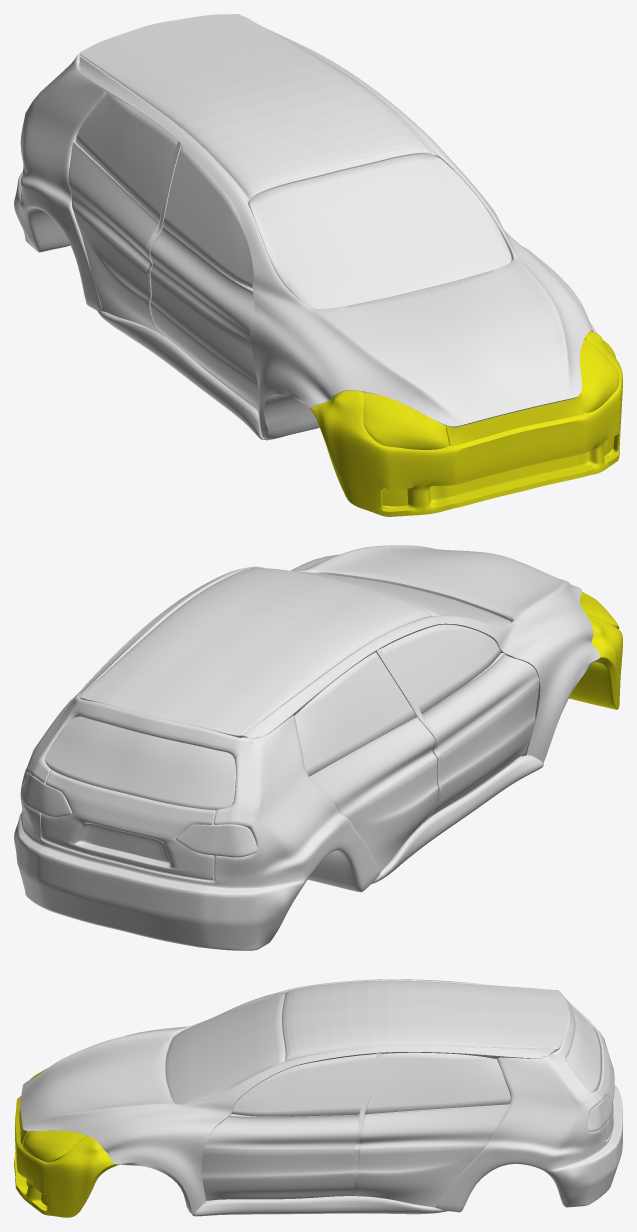
The model's file is carModel.fbx.
3 renders of one model, top to bottom at view 1: azimuth 30°, elevation 25°; view 2: azimuth 150°, elevation 25°; view 3: azimuth 270°, elevation 25°, orthographic. The views are drawn at different scales.
Parts seen in each view (by area): view 1: Plane, Plane.004, Plane.003, Plane.002, Plane.006, Plane.001, Plane.013, Plane.008, Plane.009; view 2: Plane, Plane.001, Plane.002, Plane.006, Plane.005, Plane.012, Plane.008, Plane.003, Plane.004, Plane.009, Plane.013; view 3: Plane, Plane.002, Plane.001, Plane.006, Plane.004, Plane.003, Plane.008, Plane.005, Plane.013, Plane.009, Plane.012.
Boxes of the visible parts, bbox=[...] form: Plane: bbox=[79, 14, 597, 438]; Plane.004: bbox=[248, 154, 511, 308]; Plane.003: bbox=[310, 331, 622, 516]; Plane.002: bbox=[68, 141, 258, 409]; Plane.006: bbox=[75, 94, 253, 288]; Plane.001: bbox=[14, 14, 251, 311]; Plane.013: bbox=[362, 338, 619, 449]; Plane.008: bbox=[97, 310, 286, 440]; Plane.009: bbox=[146, 141, 181, 336]; Plane: bbox=[79, 545, 600, 762]; Plane.001: bbox=[14, 691, 379, 950]; Plane.002: bbox=[309, 653, 542, 873]; Plane.006: bbox=[294, 624, 501, 776]; Plane.005: bbox=[44, 716, 235, 810]; Plane.012: bbox=[21, 773, 257, 857]; Plane.008: bbox=[372, 755, 543, 883]; Plane.003: bbox=[569, 614, 622, 709]; Plane.004: bbox=[252, 567, 511, 625]; Plane.009: bbox=[376, 648, 442, 822]; Plane.013: bbox=[580, 591, 619, 628]; Plane: bbox=[20, 979, 568, 1214]; Plane.002: bbox=[200, 1104, 510, 1207]; Plane.001: bbox=[436, 993, 622, 1212]; Plane.006: bbox=[231, 1052, 510, 1116]; Plane.004: bbox=[166, 993, 285, 1104]; Plane.003: bbox=[14, 1096, 119, 1217]; Plane.008: bbox=[192, 1196, 446, 1216]; Plane.005: bbox=[566, 1006, 601, 1092]; Plane.013: bbox=[22, 1069, 86, 1162]; Plane.009: bbox=[353, 1053, 381, 1196]; Plane.012: bbox=[588, 1031, 611, 1131].
Bounding box in the file's own units: 175 × 123 × 409.
